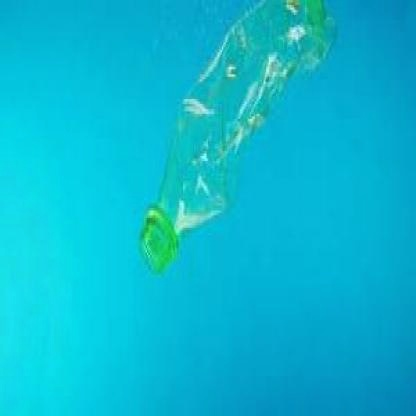pbottle: (134, 3, 340, 278)
